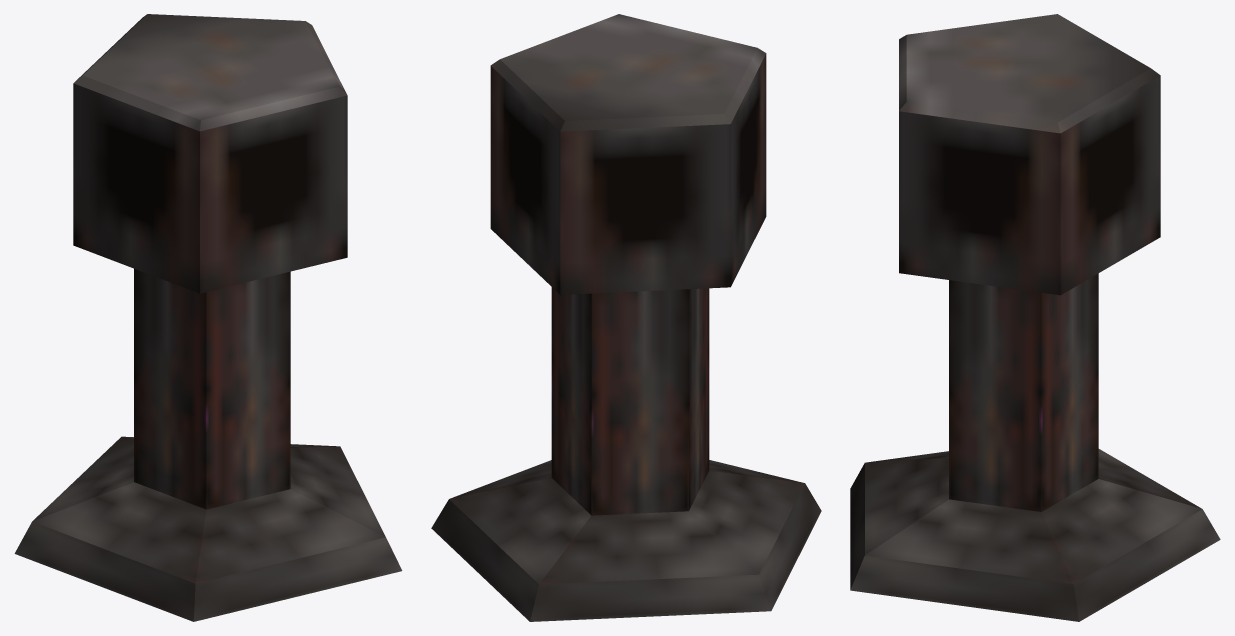
The model's file is Poly_SF_Outside_B_Chimney_02.obj.
The picture shows the model from 3 angles, left to right: view 1: azimuth 30°, elevation 25°; view 2: azimuth 150°, elevation 25°; view 3: azimuth 270°, elevation 25°; orthographic projection.
Parts seen in each view (by area): view 1: Cube.003; view 2: Cube.003; view 3: Cube.003.
Part boxes in pixels (box(x1,y1,x2,y2)): Cube.003: box(14, 14, 402, 621); Cube.003: box(431, 14, 821, 621); Cube.003: box(850, 14, 1220, 621).
Size of the model in its own units: 0.5993 by 0.8004 by 0.5699.
1 material, 1 textured.
